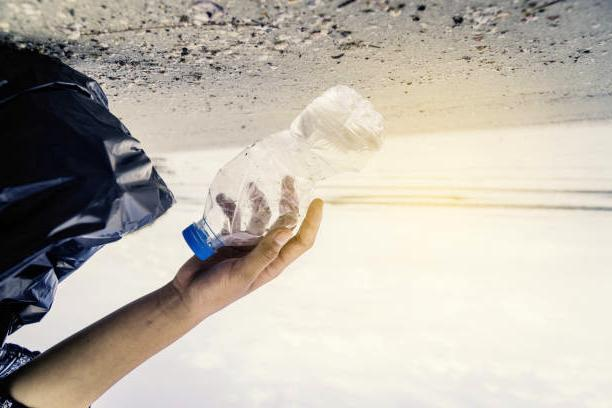Plastic: (183, 86, 405, 257)
